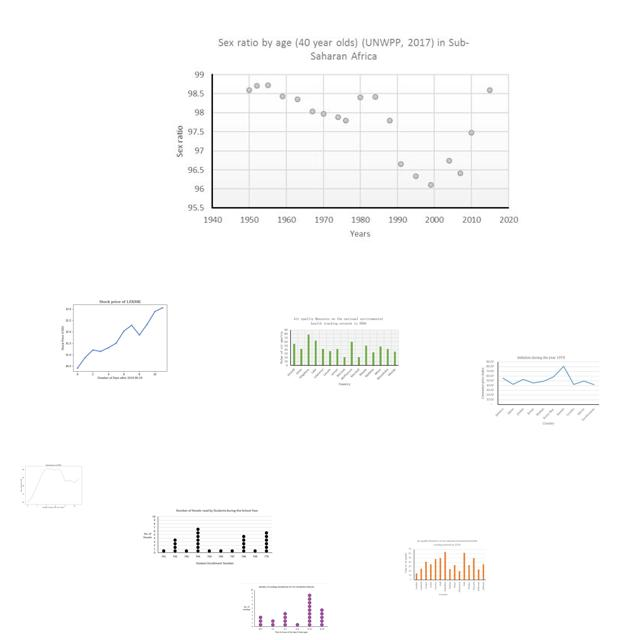Graph: (167, 30, 522, 244), (58, 292, 179, 383), (277, 314, 400, 390), (481, 354, 601, 426), (141, 507, 274, 566), (403, 537, 487, 598), (240, 583, 330, 636), (16, 460, 89, 510)
